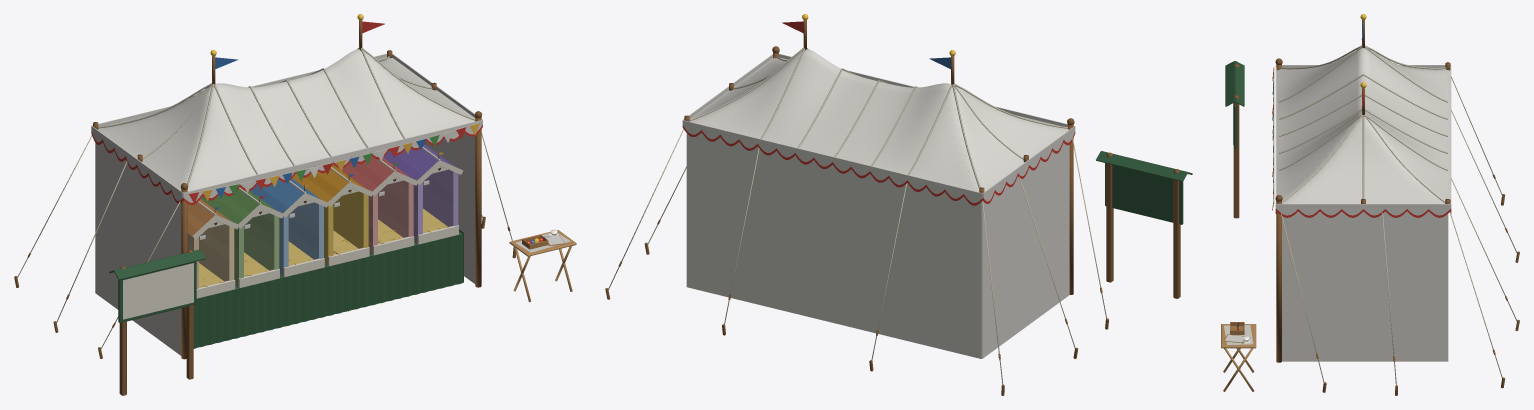
Rendered from showground.glb.
3 renders of one model, left to right at view 1: azimuth 30°, elevation 25°; view 2: azimuth 150°, elevation 25°; view 3: azimuth 270°, elevation 25°, orthographic. The views are drawn at different scales.
Parts seen in each view (by area): view 1: show_tent, show_pens, show_sign, show_jtable; view 2: show_tent, show_sign; view 3: show_tent, show_sign, show_jtable.
Boxes of the visible parts, x1,y1,x2,y2 form: show_tent: [14, 14, 515, 359]; show_pens: [187, 144, 463, 348]; show_sign: [109, 249, 205, 395]; show_jtable: [509, 229, 576, 301]; show_tent: [605, 14, 1108, 395]; show_sign: [1096, 151, 1192, 298]; show_tent: [1272, 14, 1519, 395]; show_sign: [1225, 61, 1244, 218]; show_jtable: [1221, 322, 1256, 391].
Bounding box in the file's own units: 6.83 × 4.04 × 4.07.
